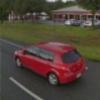cars: (15, 42, 86, 85)
